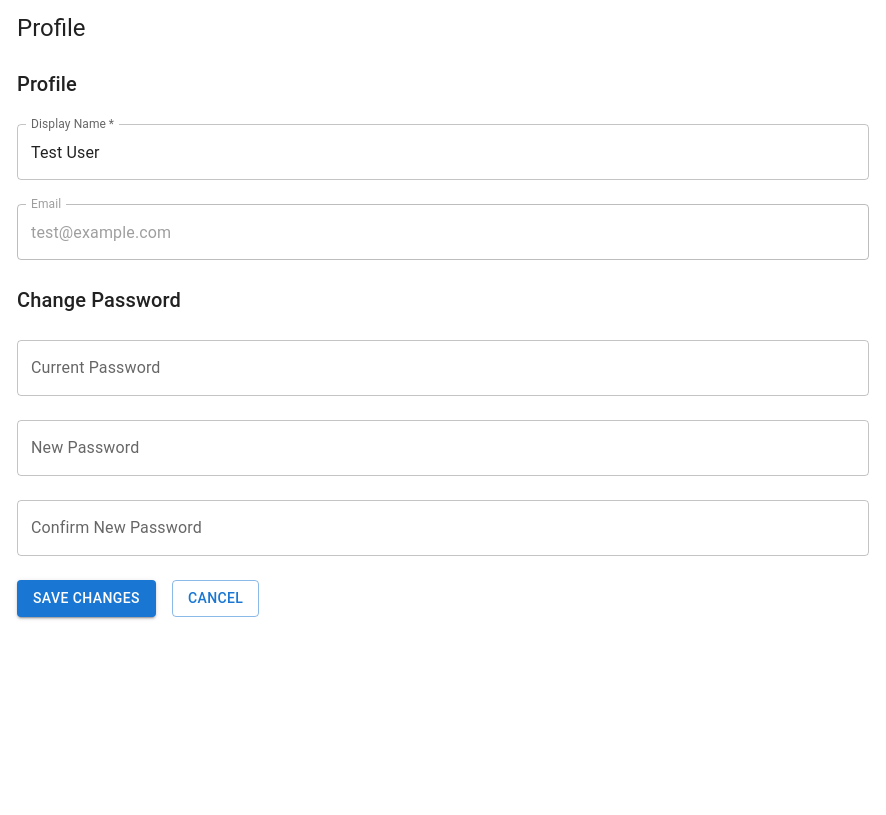
Test case: ProfilePage › Form Submission › should handle profile update submission
Replace the text in the field labelled "Display Name *" with "Updated Name": (443, 152) [17,124,869,180]
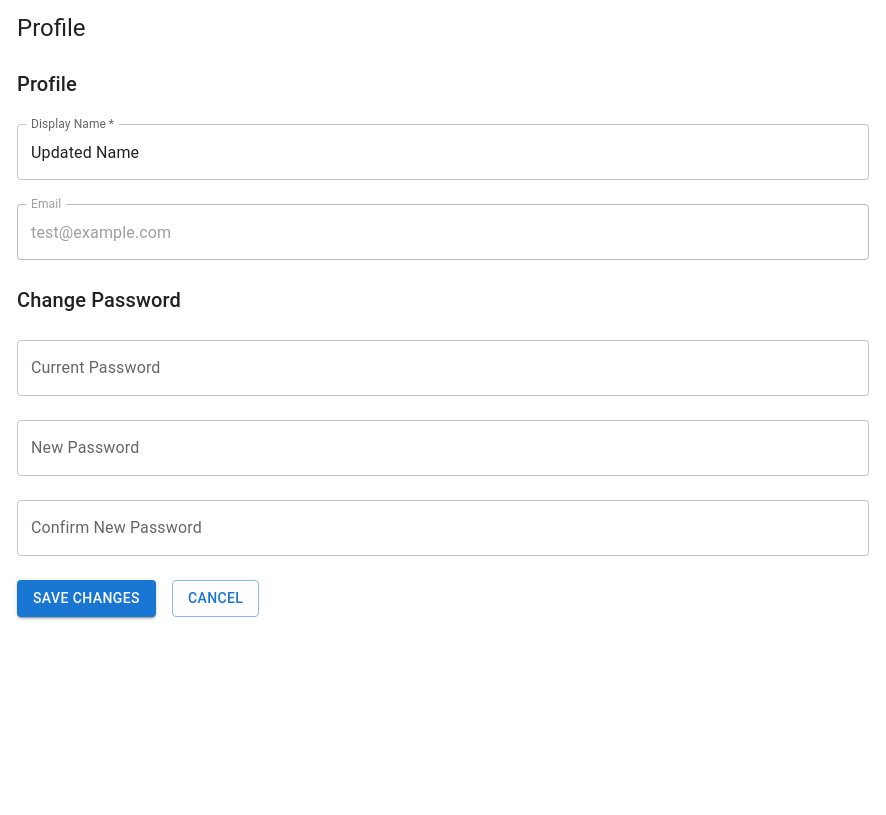
Click the button "Save Changes": (86, 598) [17,580,156,616]
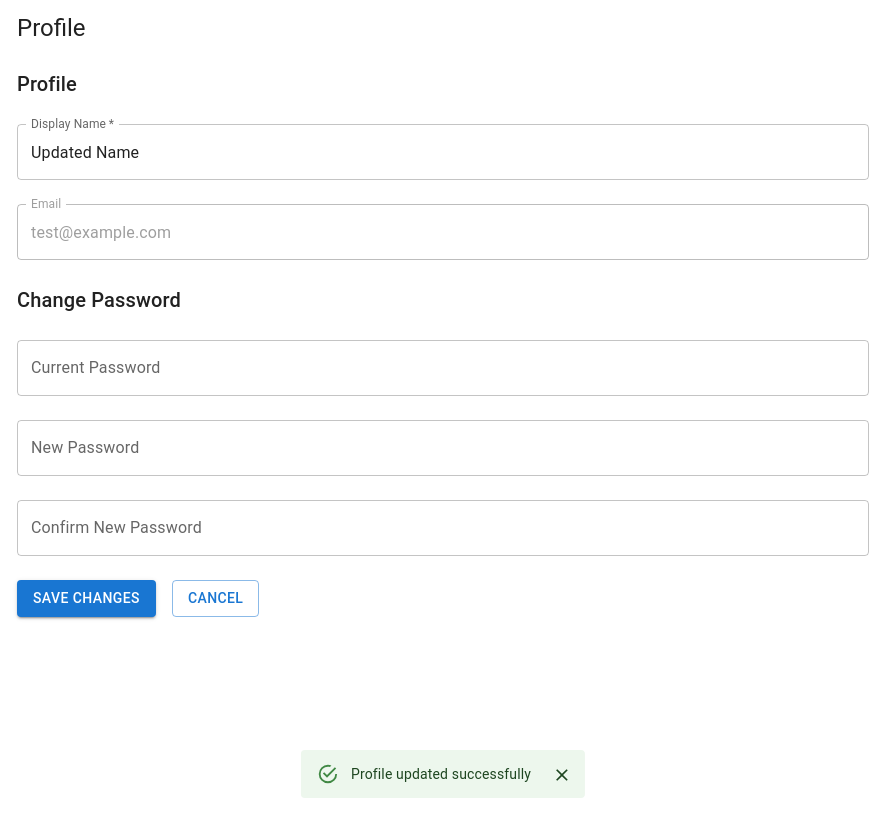
Result: the text "Profile updated successfully" is shown at [351,766,531,782]
